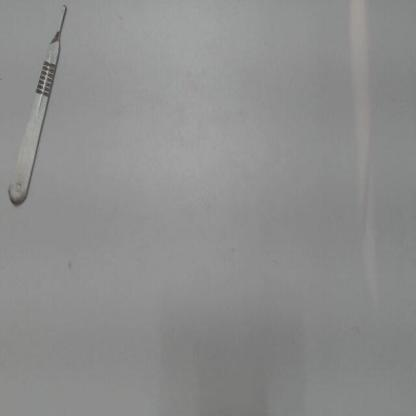No.3 BP Handle: (4, 5, 72, 212)
